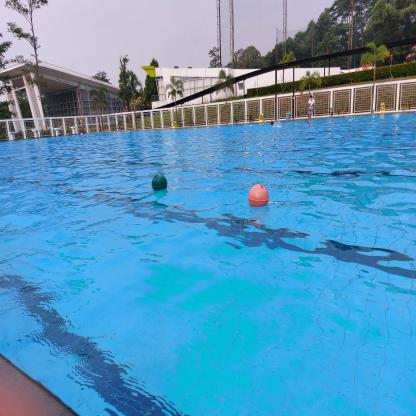green_buoy: (151, 172, 169, 191)
red_buoy: (247, 183, 270, 209)
